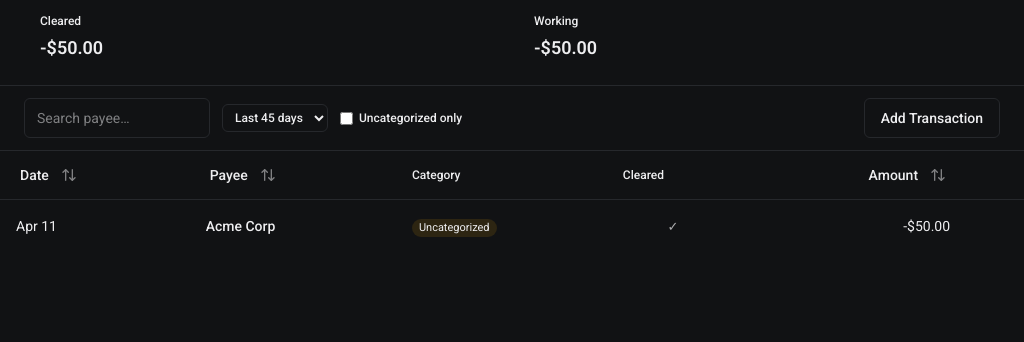
Test case: LedgerView › cancel button exits edit mode without saving
The image size is (1024, 342).
Click the text "Acme Corp" at (36, 226), box [0,199,1023,253]
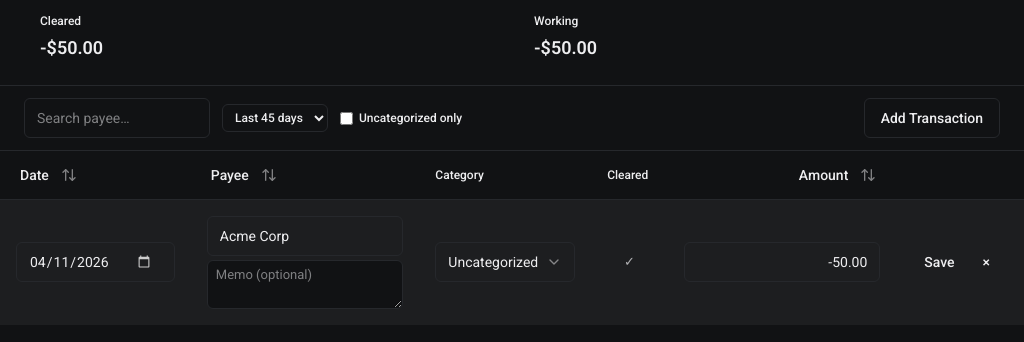
Click the button "×" at (986, 262), box [971,244,1002,280]
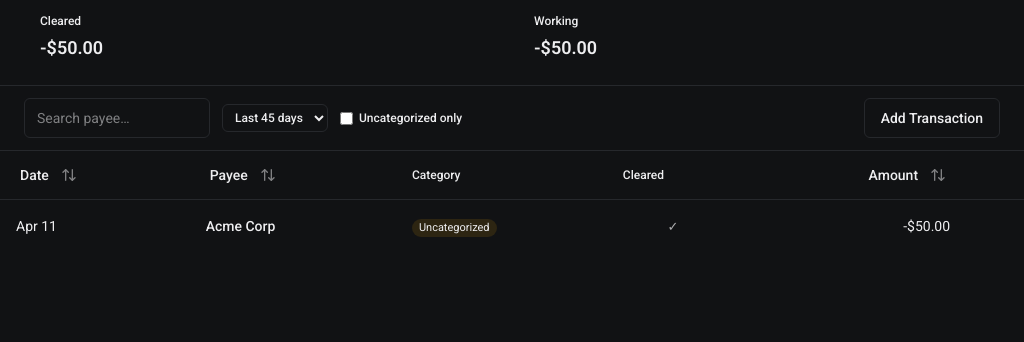
Check: the button "Save" is gone
